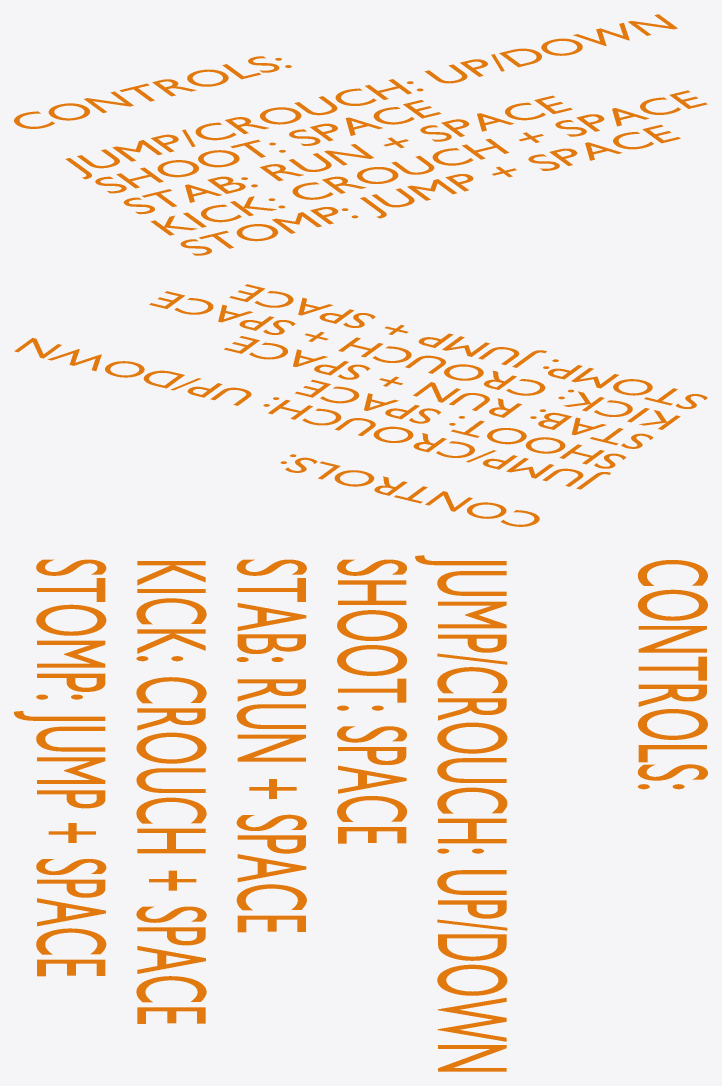
The model's file is controls.fbx.
3 renders of one model, top to bottom at view 1: azimuth 30°, elevation 25°; view 2: azimuth 150°, elevation 25°; view 3: azimuth 270°, elevation 25°, orthographic. The views are drawn at different scales.
Parts seen in each view (by area): view 1: Text; view 2: Text; view 3: Text.
Part boxes in pixels (left/top/right/bottom): Text: left=14, top=14, right=707, bottom=255; Text: left=14, top=284, right=707, bottom=526; Text: left=14, top=555, right=707, bottom=1071.
Size of the model in its own units: 1219 by 0.000113 by 692.
